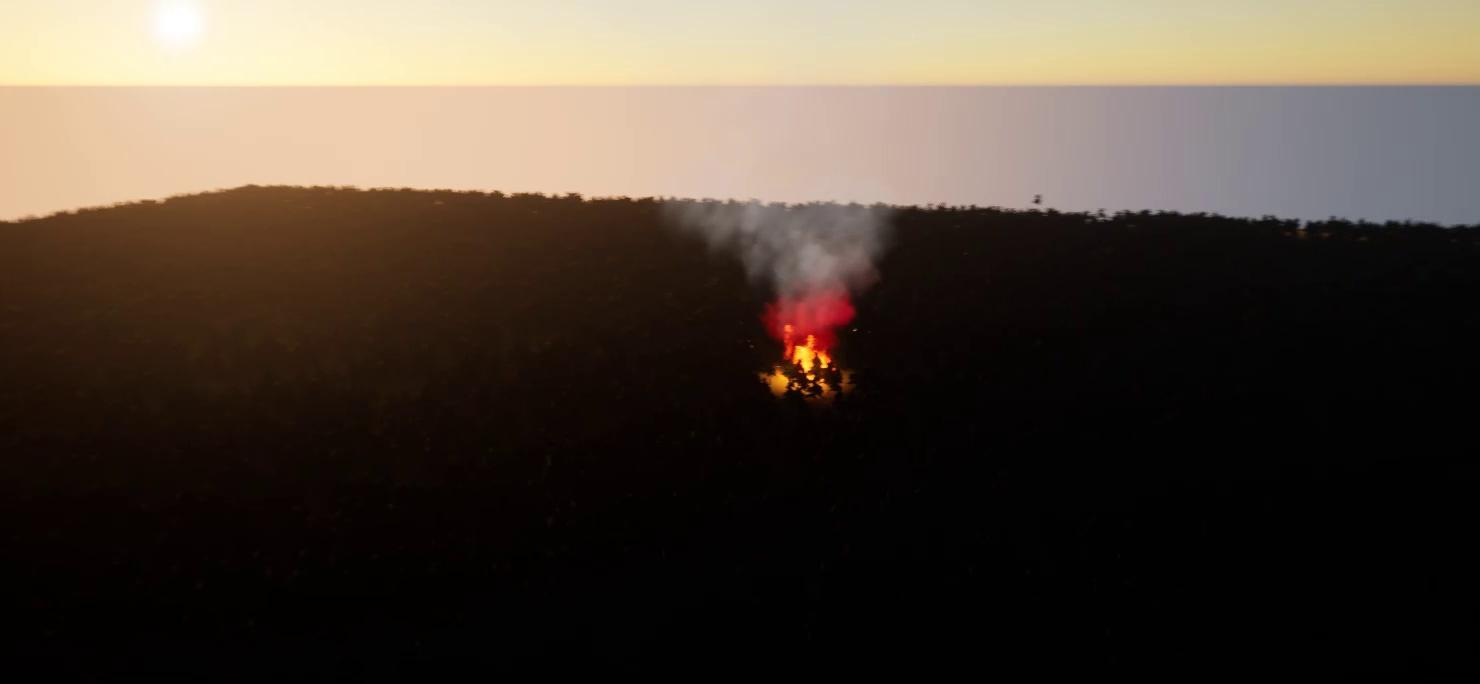fire: (774, 341, 848, 388)
smoke: (654, 193, 877, 331)
